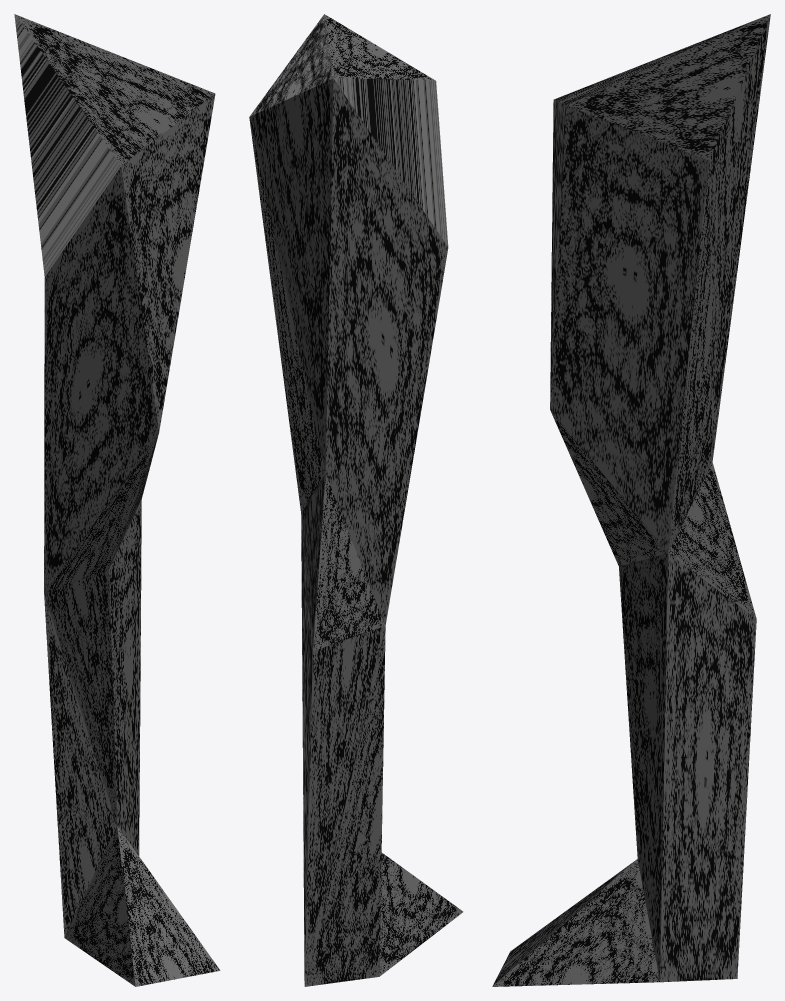
The model's file is CitizenOneRightLeg.fbx.
The picture shows the model from 3 angles, left to right: view 1: azimuth 30°, elevation 25°; view 2: azimuth 150°, elevation 25°; view 3: azimuth 270°, elevation 25°; orthographic projection. The views are drawn at different scales.
Parts seen in each view (by area): view 1: CitzenOneRightLeg; view 2: CitzenOneRightLeg; view 3: CitzenOneRightLeg.
Part boxes in pixels (x1,y1,x2,y2): CitzenOneRightLeg: (14, 14, 220, 986); CitzenOneRightLeg: (249, 14, 463, 986); CitzenOneRightLeg: (492, 14, 770, 986).
Bounding box in the file's own units: 166 × 947 × 253.
